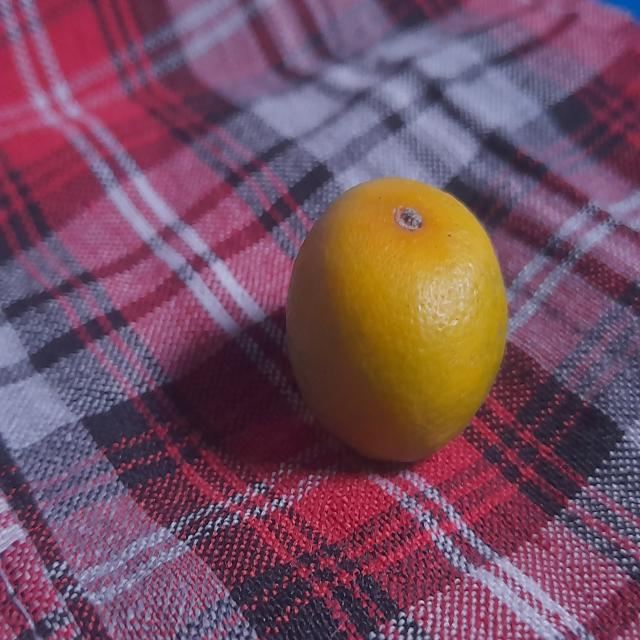greening: (284, 172, 516, 467)
